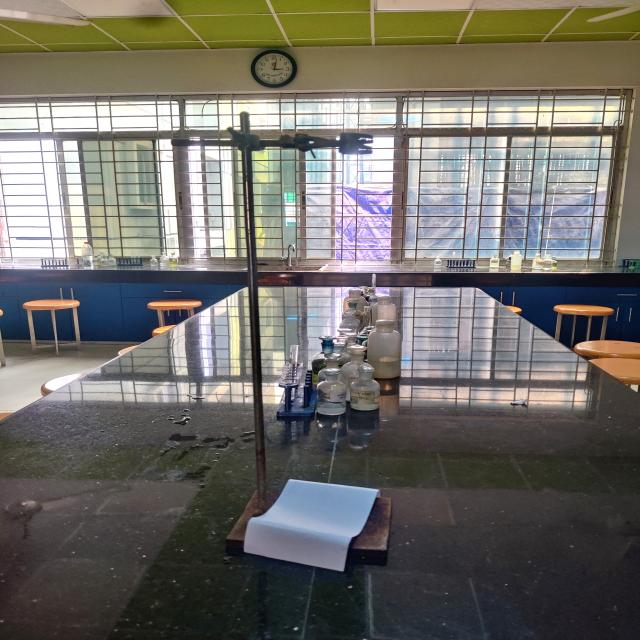Burette_Stands: (168, 97, 418, 588)
